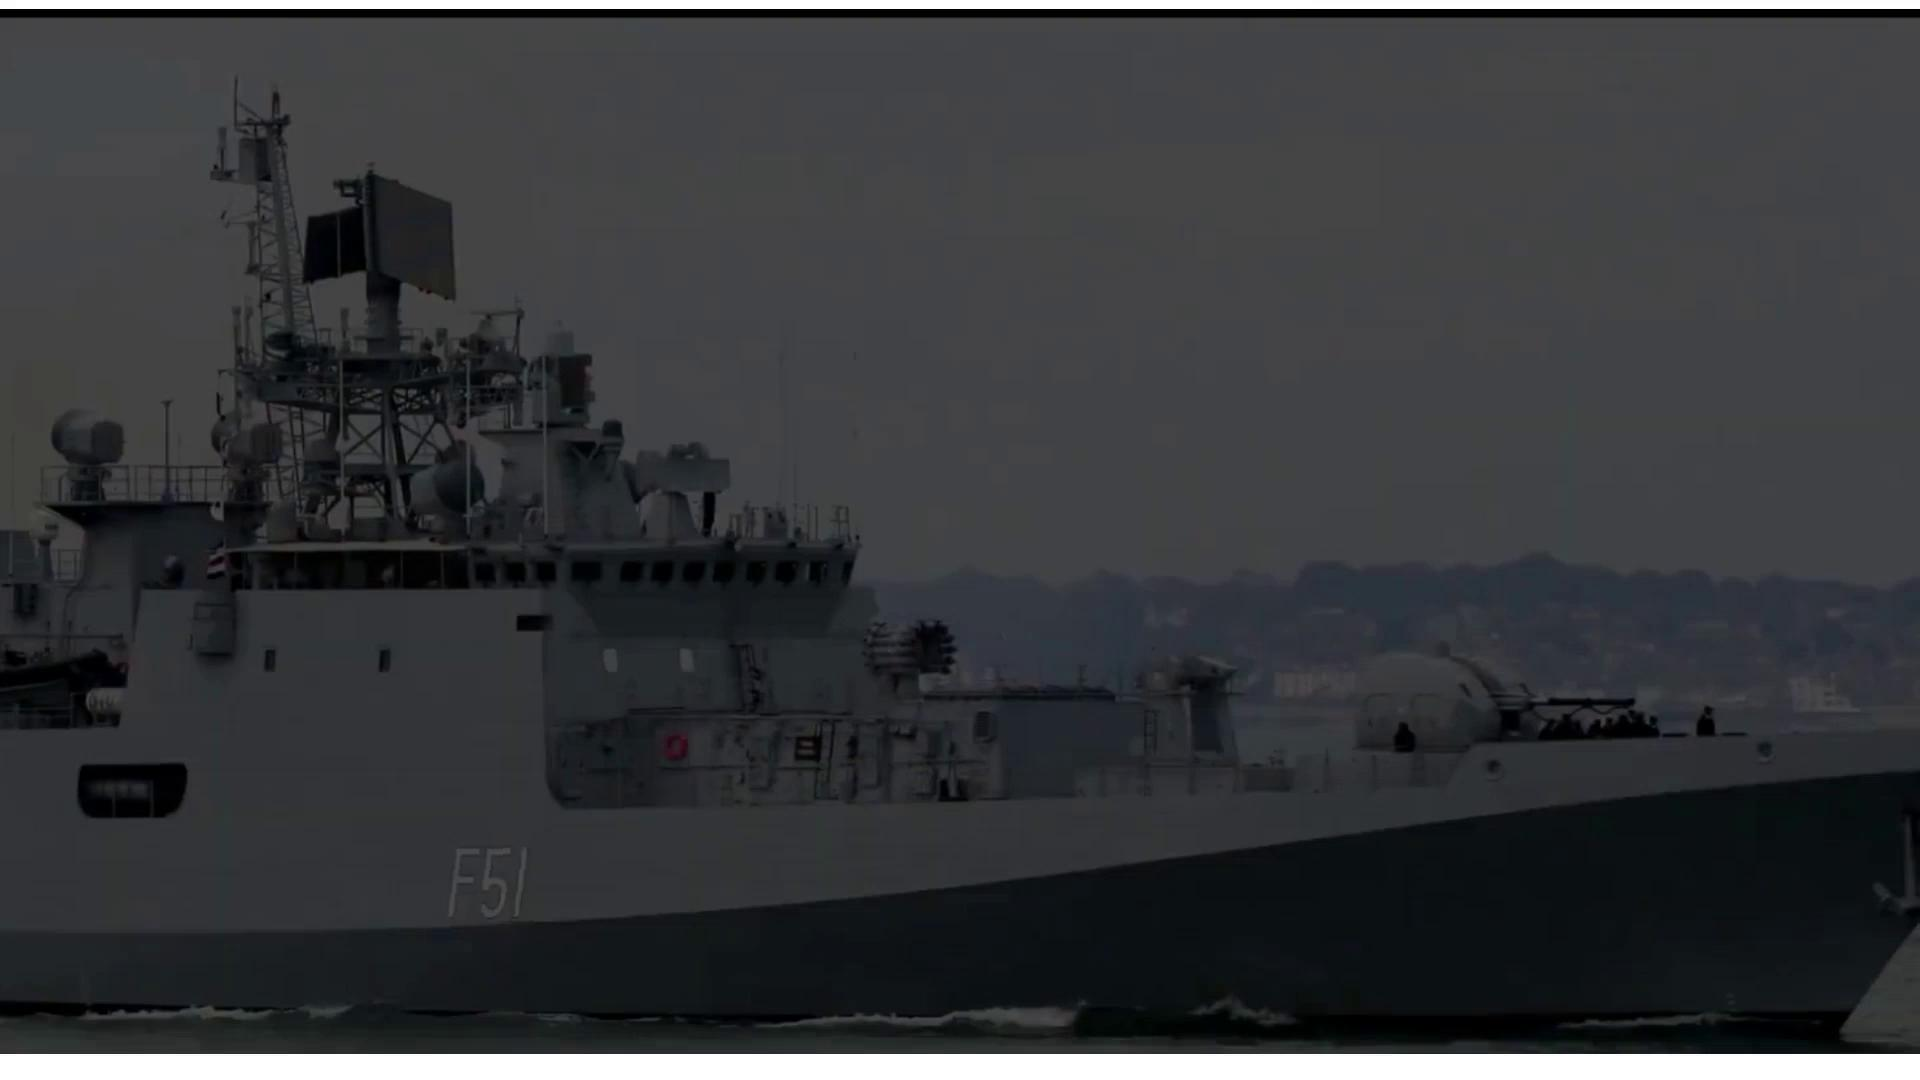OCR: (436, 836, 538, 924)
